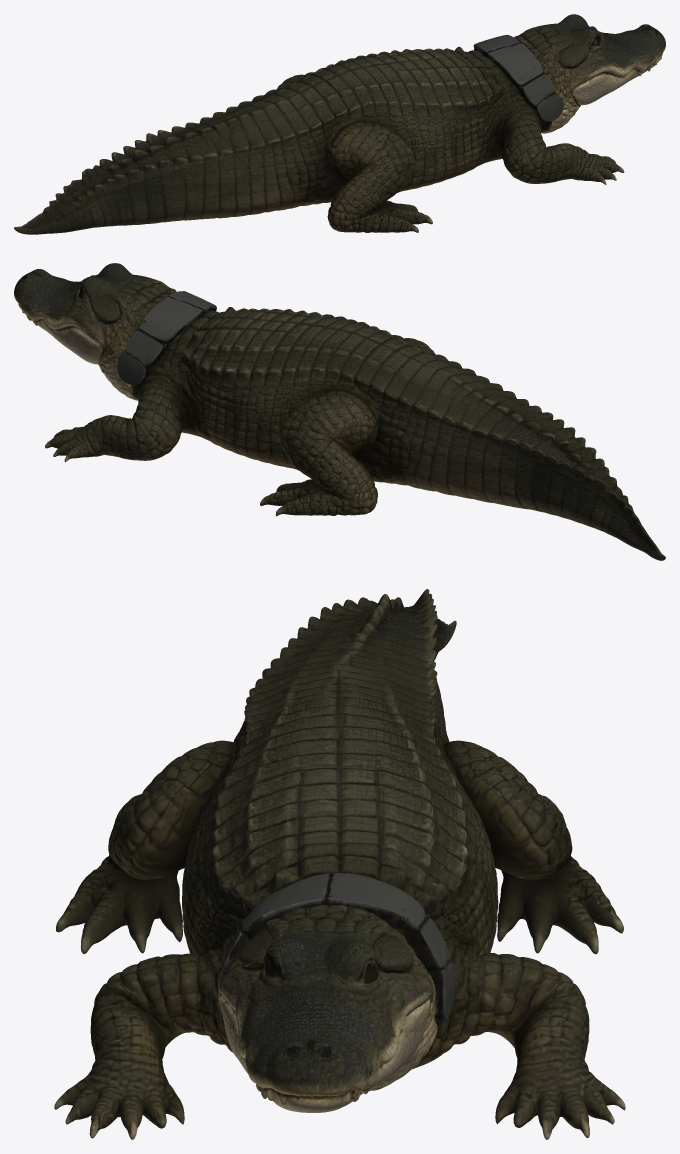
Rendered from 9ccd902e-0ce5-40e5-a396-9b16726e9ff1.glb.
3 views of the same model, one above another, from view 1: azimuth 30°, elevation 25°; view 2: azimuth 150°, elevation 25°; view 3: azimuth 270°, elevation 25° (orthographic). The views are drawn at different scales.
Parts seen in each view (by area): view 1: tripo_node_9ccd902e-0ce5-40e5-a396-9b16726e9ff1; view 2: tripo_node_9ccd902e-0ce5-40e5-a396-9b16726e9ff1; view 3: tripo_node_9ccd902e-0ce5-40e5-a396-9b16726e9ff1.
Boxes of the visible parts, <box> form: tripo_node_9ccd902e-0ce5-40e5-a396-9b16726e9ff1: <box>14,14,665,234</box>; tripo_node_9ccd902e-0ce5-40e5-a396-9b16726e9ff1: <box>14,263,665,560</box>; tripo_node_9ccd902e-0ce5-40e5-a396-9b16726e9ff1: <box>54,589,625,1139</box>.
Size of the model in its own units: 0.9998 by 0.1751 by 0.4038.
1 material, 1 textured.
